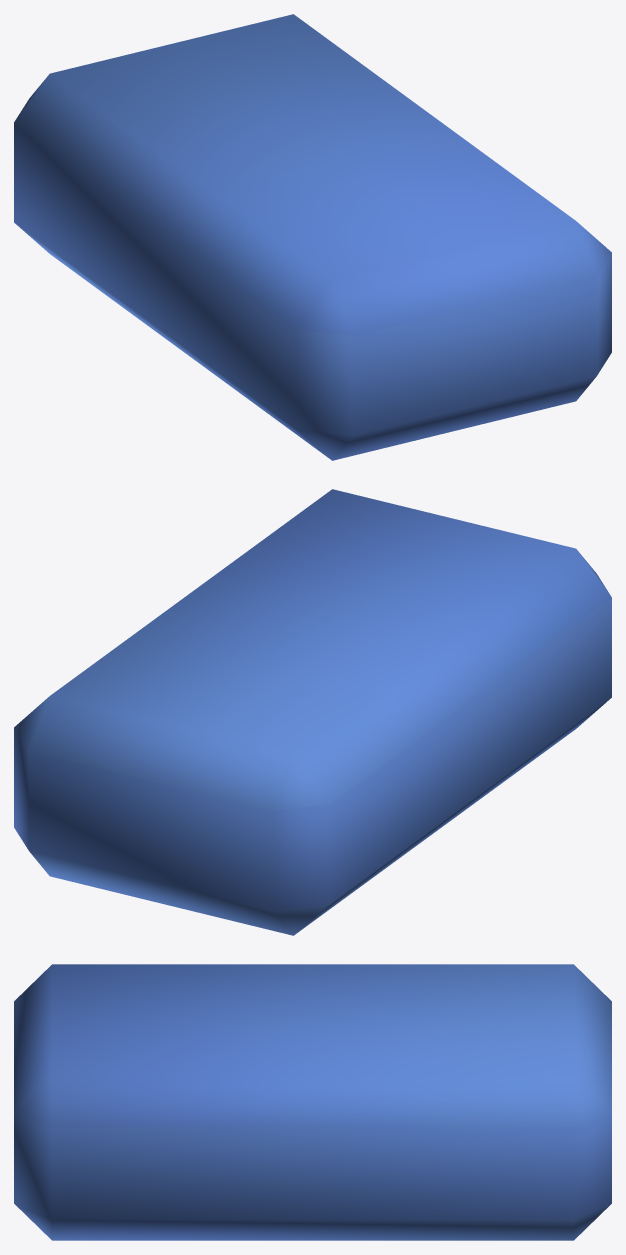
Rendered from Soap_05.glb.
3 views of the same model, one above another, from view 1: azimuth 30°, elevation 25°; view 2: azimuth 150°, elevation 25°; view 3: azimuth 270°, elevation 25° (orthographic). The views are drawn at different scales.
Parts seen in each view (by area): view 1: Soap_05; view 2: Soap_05; view 3: Soap_05.
Part boxes in pixels (left/top/right/bottom): Soap_05: left=14, top=14, right=611, bottom=460; Soap_05: left=14, top=489, right=611, bottom=935; Soap_05: left=14, top=964, right=611, bottom=1240.
Bounding box in the file's own units: 0.0595 × 0.0325 × 0.1058.
1 material, 1 textured.
